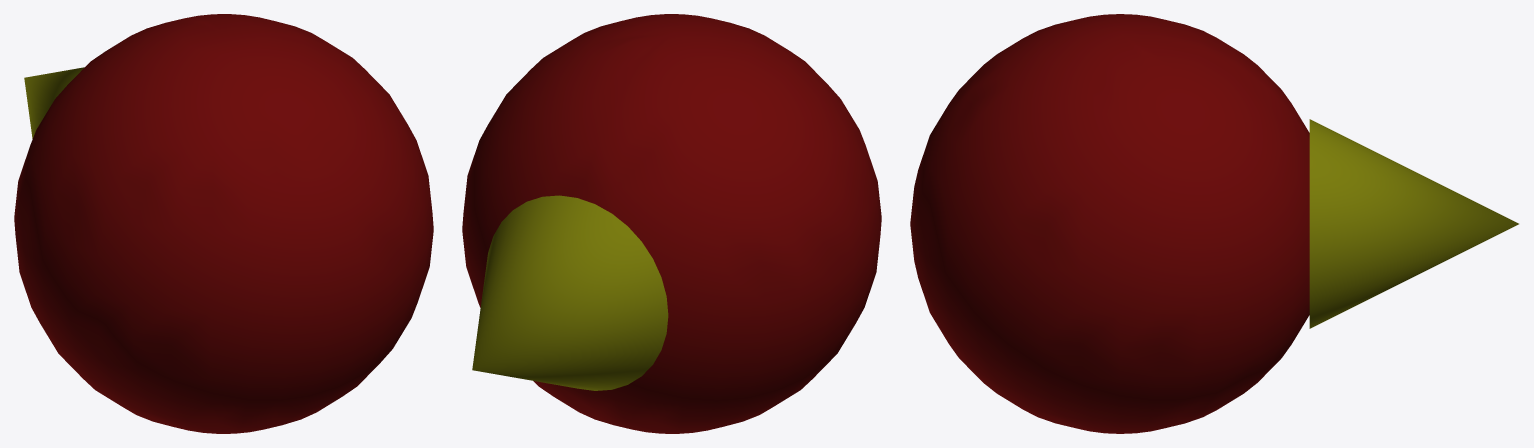
File: enemy.glb
3 renders of one model, left to right at view 1: azimuth 30°, elevation 25°; view 2: azimuth 150°, elevation 25°; view 3: azimuth 270°, elevation 25°, orthographic.
Visible parts, largest first — view 1: mesh_id5, mesh_id4; view 2: mesh_id5, mesh_id4; view 3: mesh_id5, mesh_id4.
Boxes of the visible parts, box(x1,y1,x2,y2) form: mesh_id5: box(14, 14, 433, 433); mesh_id4: box(24, 67, 84, 138); mesh_id5: box(462, 14, 881, 433); mesh_id4: box(472, 195, 668, 390); mesh_id5: box(910, 14, 1309, 433); mesh_id4: box(1309, 119, 1518, 328).
Bounding box in the file's own units: 0.512 × 0.512 × 0.7424.
2 materials, 2 textured.
